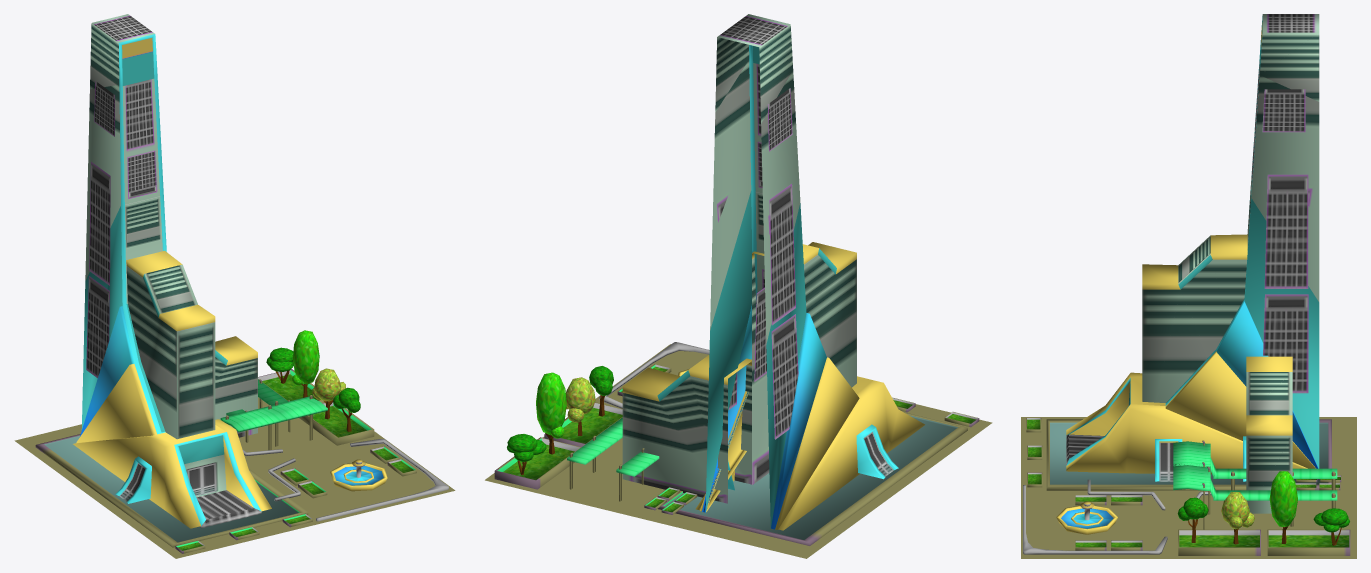
File: media_LV1.fbx
3 renders of one model, left to right at view 1: azimuth 30°, elevation 25°; view 2: azimuth 150°, elevation 25°; view 3: azimuth 270°, elevation 25°, orthographic. The views are drawn at different scales.
Parts seen in each view (by area): view 1: media level 1; view 2: media level 1; view 3: media level 1.
Boxes of the visible parts, x1=… form: media level 1: x1=14, y1=14, x2=455, y2=558; media level 1: x1=485, y1=14, x2=992, y2=558; media level 1: x1=1021, y1=14, x2=1356, y2=558.
Bounding box in the file's own units: 100 × 143 × 100.
